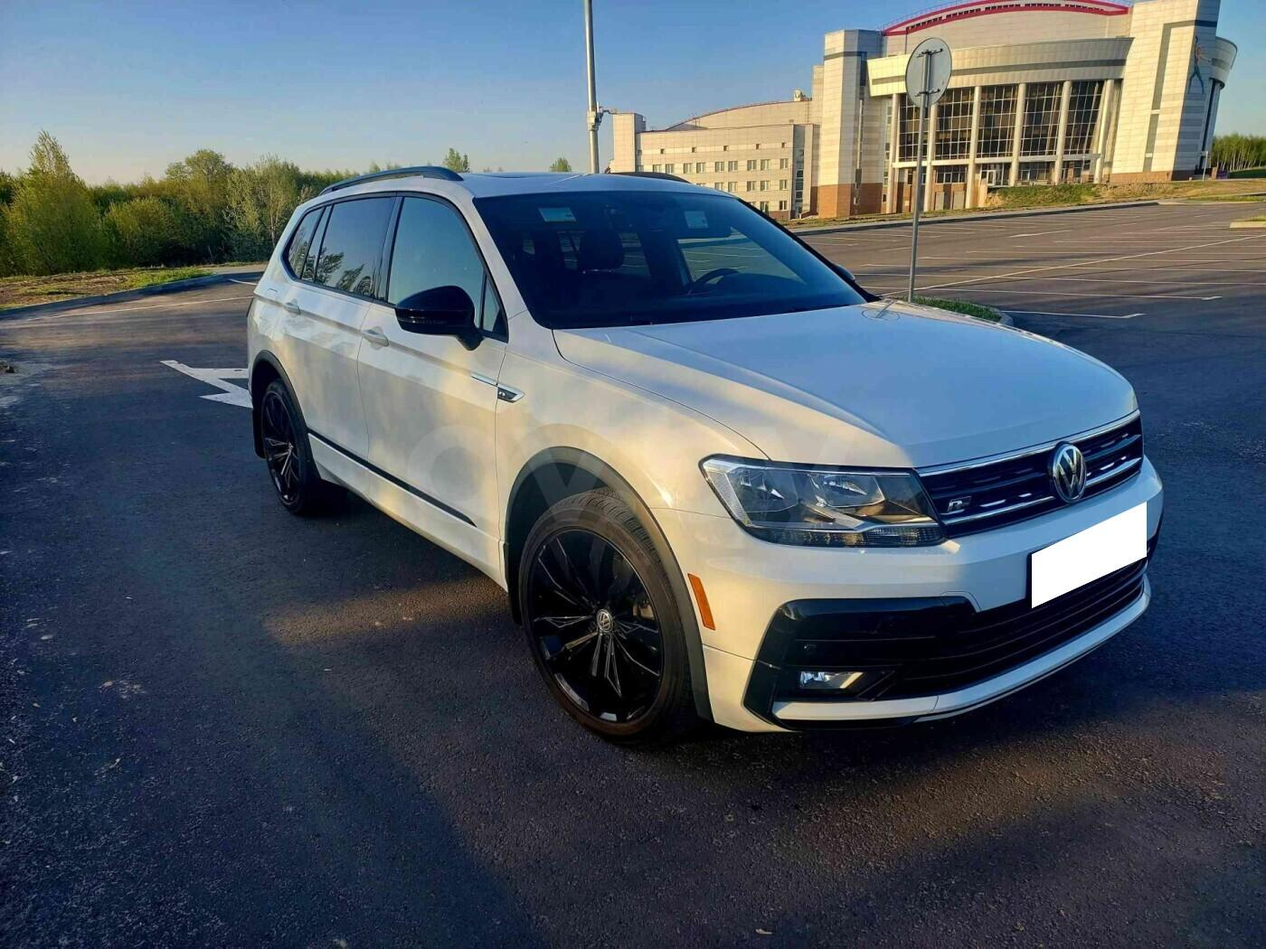Tiguan_2016-2021: (243, 163, 1168, 753)
